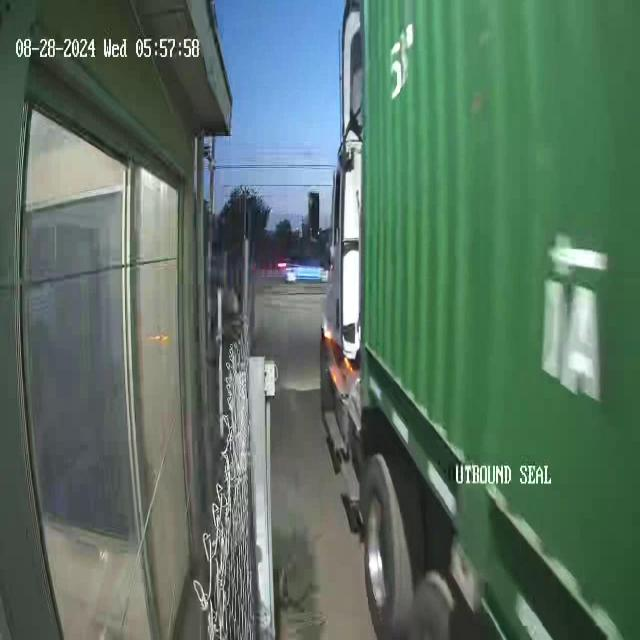TRUCK_CONTAINER: (307, 1, 639, 638)
